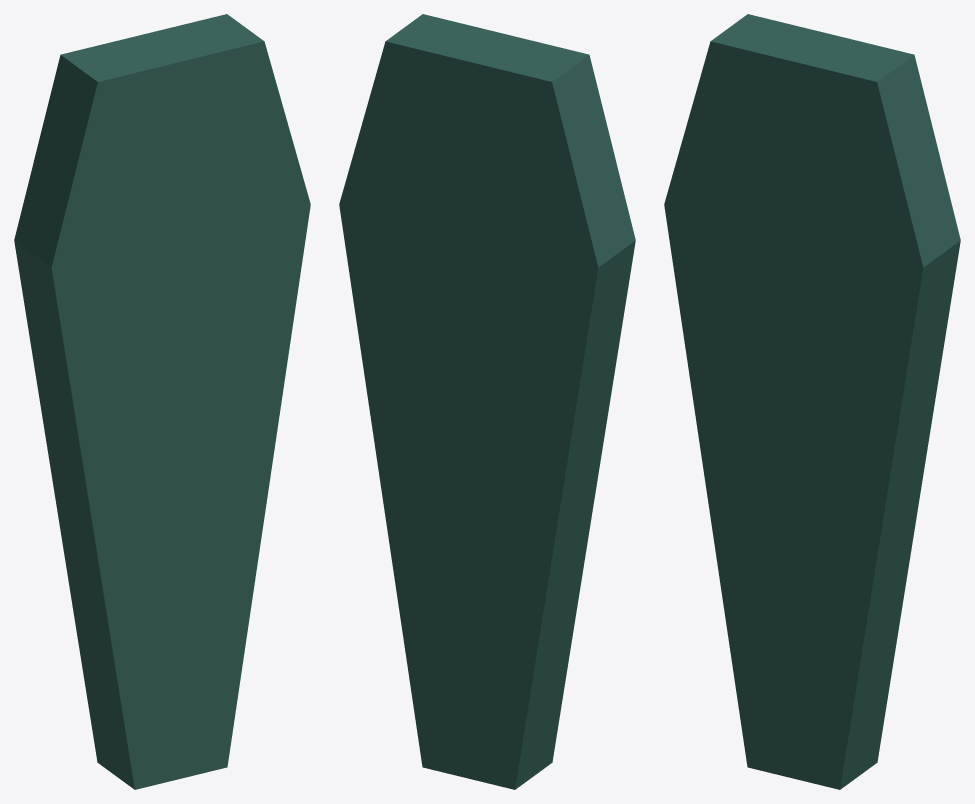
The model's file is maori-mere.glb.
The picture shows the model from 3 angles, left to right: view 1: azimuth 30°, elevation 25°; view 2: azimuth 150°, elevation 25°; view 3: azimuth 330°, elevation 25°; orthographic projection.
Parts seen in each view (by area): view 1: Paddle; view 2: Paddle; view 3: Paddle.
Boxes of the visible parts, box(x1,y1,x2,y2) form: Paddle: box(14, 14, 310, 789); Paddle: box(339, 14, 635, 789); Paddle: box(664, 14, 960, 789).
Bounding box in the file's own units: 0.14 × 0.37 × 0.035.
